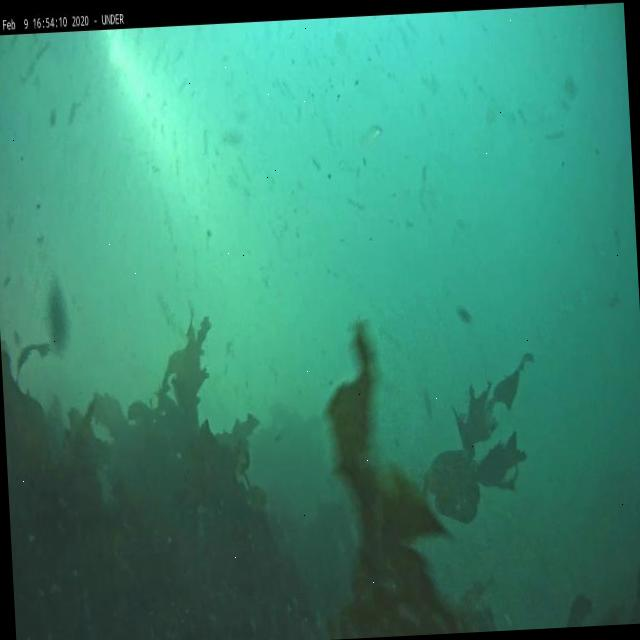fish: (361, 123, 384, 147)
